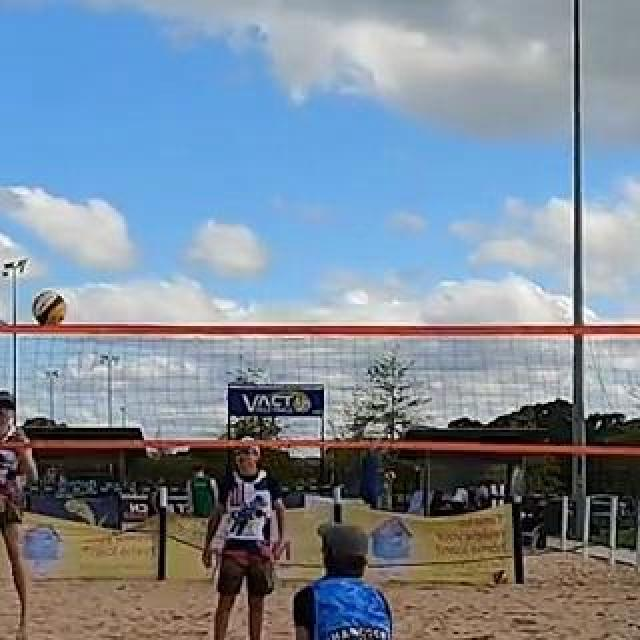volleyball: (32, 293, 66, 327), (493, 568, 509, 584)
